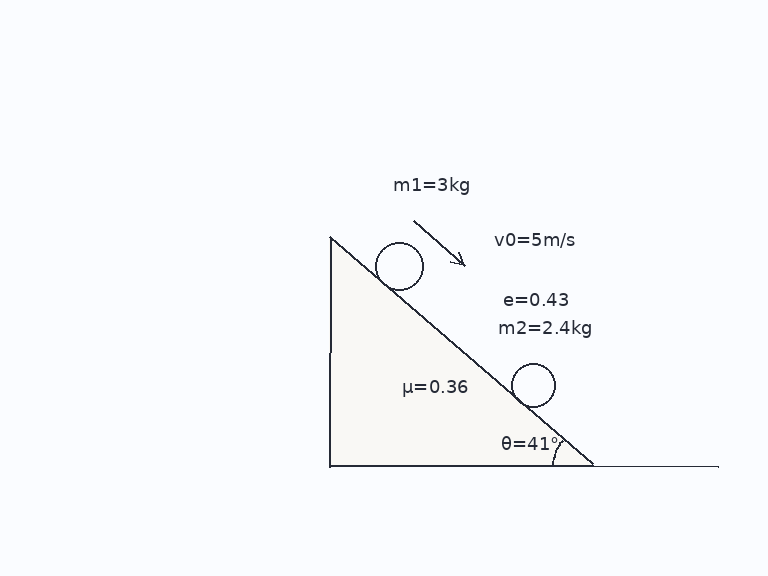ball: (373, 240, 425, 292), (509, 361, 557, 409)
ramp: (328, 235, 595, 468)
